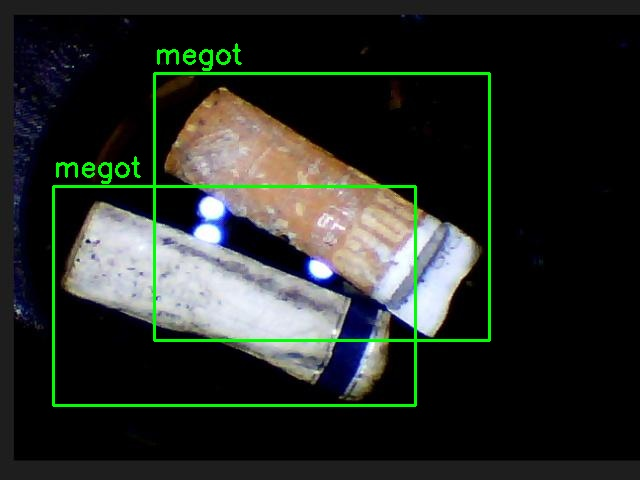megot: (154, 73, 489, 340), (53, 186, 415, 405)
